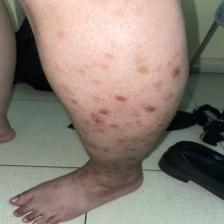DA: (84, 80, 163, 141)
